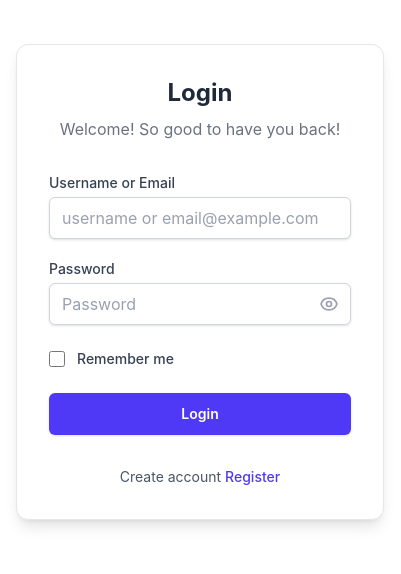
Test: Login Component › should extract error message from err.response.data.message
In the field with id "email": {"x": 200, "y": 218} top-left (49, 197), bottom-right (351, 239), type "test@test.com"
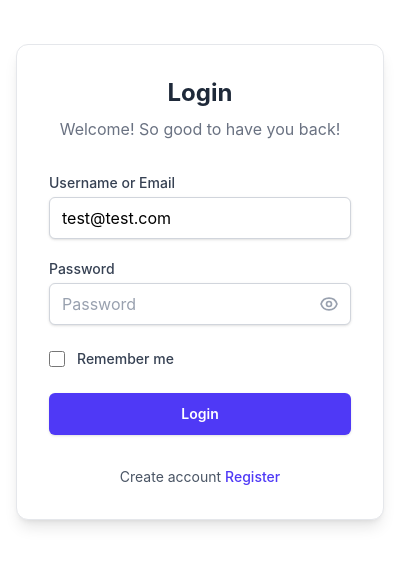
In the password field with placeholder "Password": {"x": 200, "y": 304} top-left (49, 283), bottom-right (351, 325), type "password123"
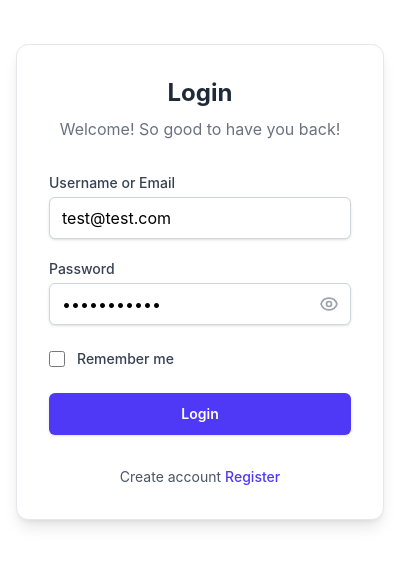
Submit the form
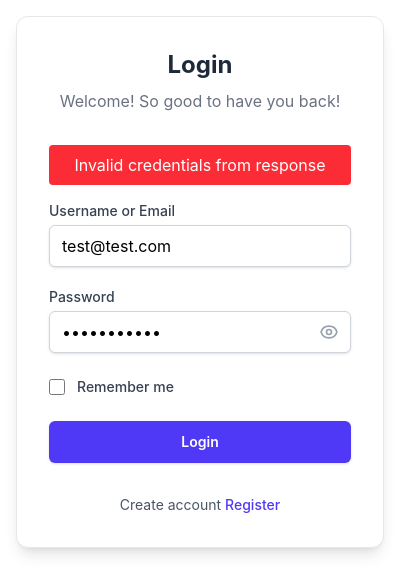
Expected: the text "Invalid credentials from response" is shown, top-left (61, 153), bottom-right (339, 177)
